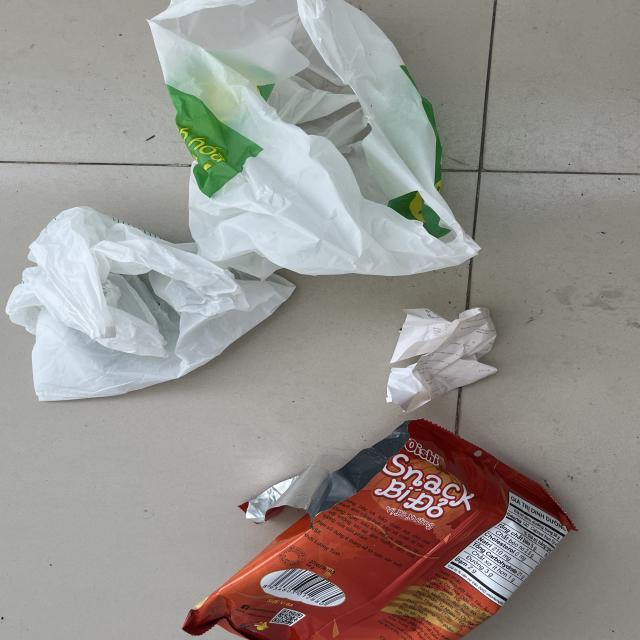bag: (147, 0, 482, 281), (6, 207, 298, 402)
paper: (386, 306, 498, 414)
snack package: (182, 418, 577, 640)
